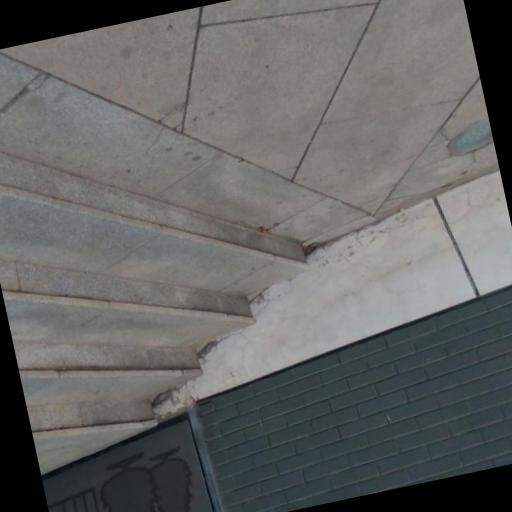stairs: (0, 154, 303, 453)
